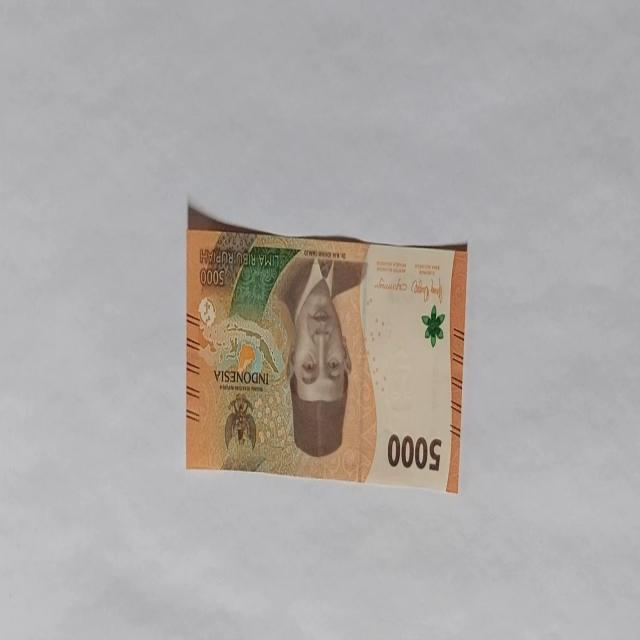lima ribu rupiah: (185, 202, 468, 492), (278, 257, 354, 458)
